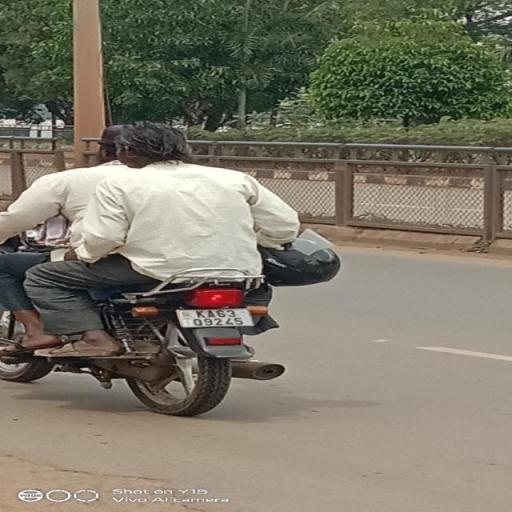bike: (0, 114, 351, 421)
numberplate: (176, 306, 257, 328)
withouthelmet: (118, 124, 188, 168)
